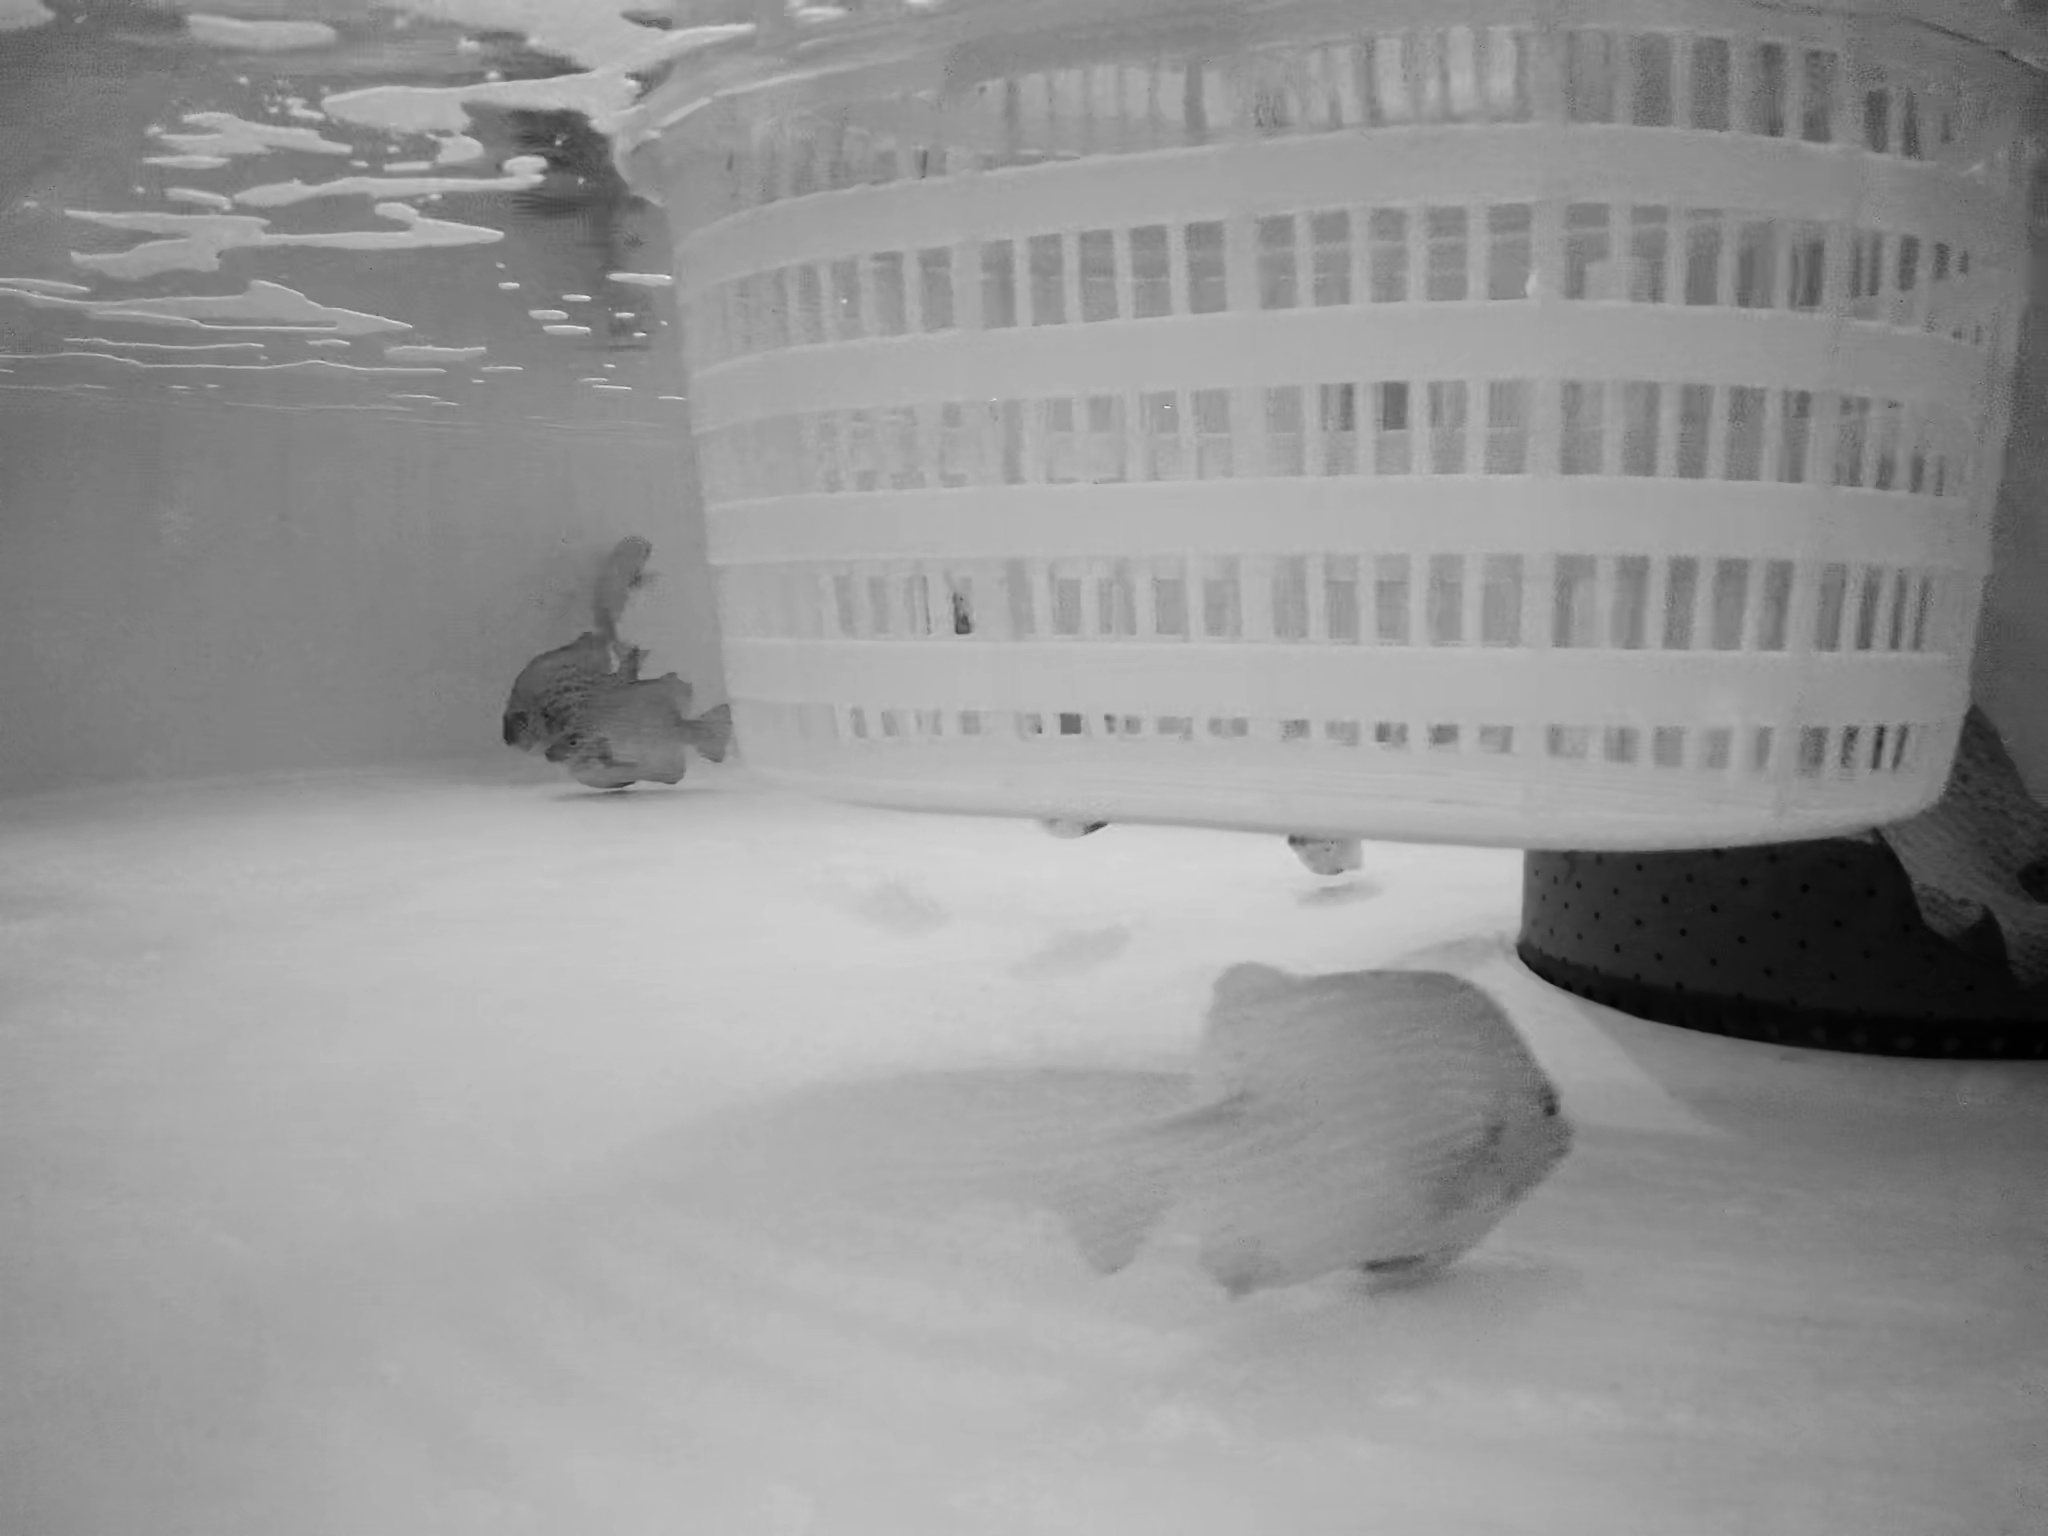fish: (1040, 958, 1572, 1297), (1819, 663, 2048, 954), (553, 684, 743, 797), (493, 636, 651, 762), (1022, 715, 1127, 847), (1277, 750, 1372, 889), (582, 523, 650, 626)
